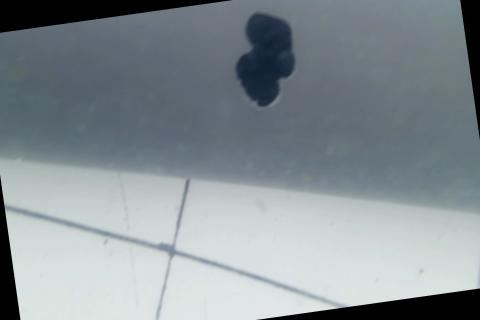kebocoran: (223, 4, 302, 114)
